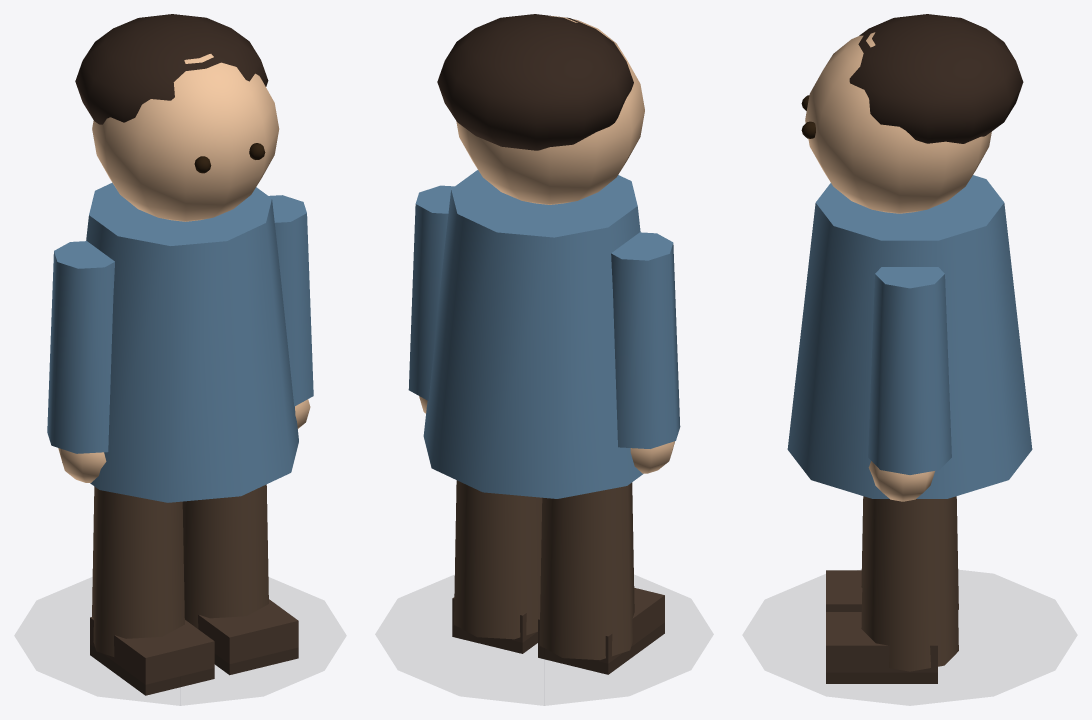
Rendered from villager-blue.glb.
The picture shows the model from 3 angles, left to right: view 1: azimuth 30°, elevation 25°; view 2: azimuth 150°, elevation 25°; view 3: azimuth 270°, elevation 25°; orthographic projection.
Bounding box in the file's own units: 0.96 × 1.95 × 0.96.
